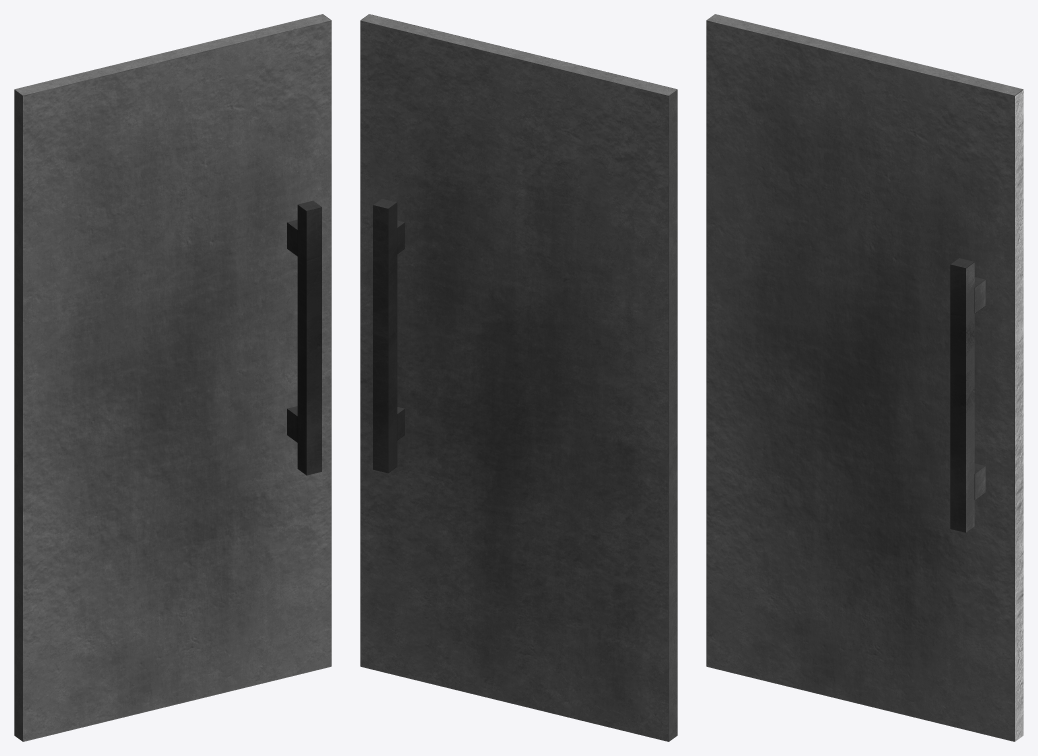
The model's file is Door.fbx.
3 views of the same model, side by side, from view 1: azimuth 30°, elevation 25°; view 2: azimuth 150°, elevation 25°; view 3: azimuth 330°, elevation 25° (orthographic).
Parts seen in each view (by area): view 1: Sliding_Door; view 2: Sliding_Door; view 3: Sliding_Door.
Boxes of the visible parts, left/top/right/bottom form: Sliding_Door: left=14, top=14, right=331, bottom=741; Sliding_Door: left=360, top=14, right=677, bottom=741; Sliding_Door: left=706, top=14, right=1023, bottom=741.
Bounding box in the file's own units: 2000 × 4000 × 508.
1 material, 1 textured.
